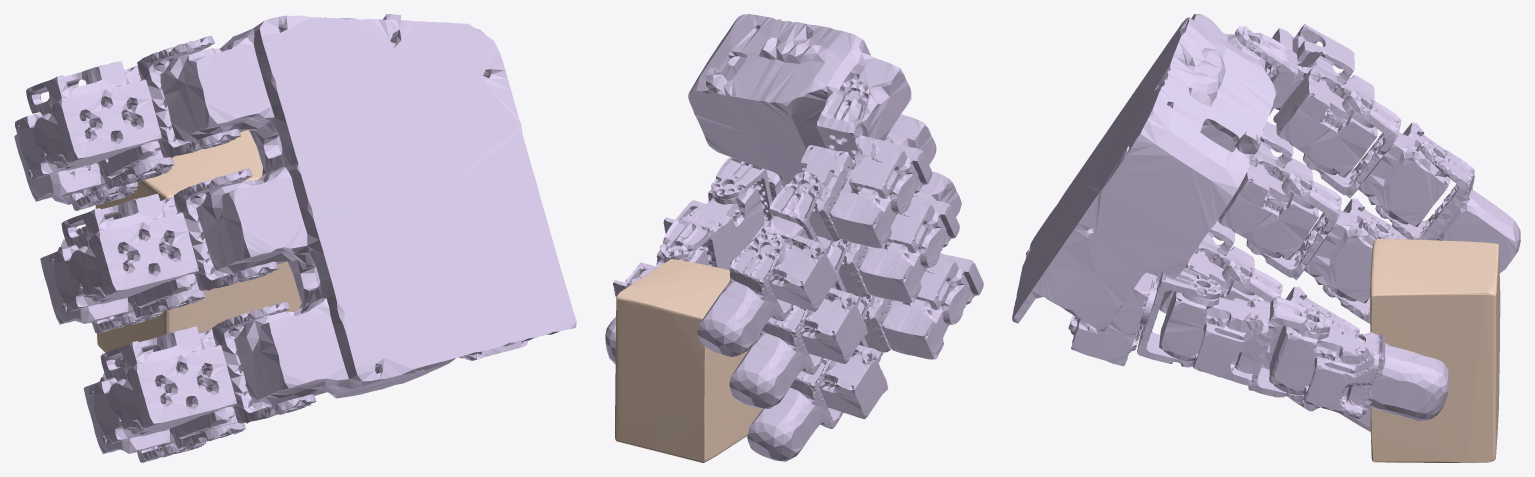
3 views of the same model, side by side, from view 1: azimuth 30°, elevation 25°; view 2: azimuth 150°, elevation 25°; view 3: azimuth 270°, elevation 25° (orthographic). The views are drawn at different scales.
Parts seen in each view (by area): view 1: LEAP_hand, world; view 2: LEAP_hand, world; view 3: LEAP_hand, world.
Part boxes in pixels (x1,y1,x2,y2): LEAP_hand: [14, 14, 576, 462]; world: [95, 130, 301, 360]; LEAP_hand: [605, 14, 983, 461]; world: [615, 259, 761, 462]; LEAP_hand: [1012, 14, 1520, 431]; world: [1370, 238, 1500, 462].
Bounding box in the file's own units: 0.1436 × 0.1853 × 0.2062.
